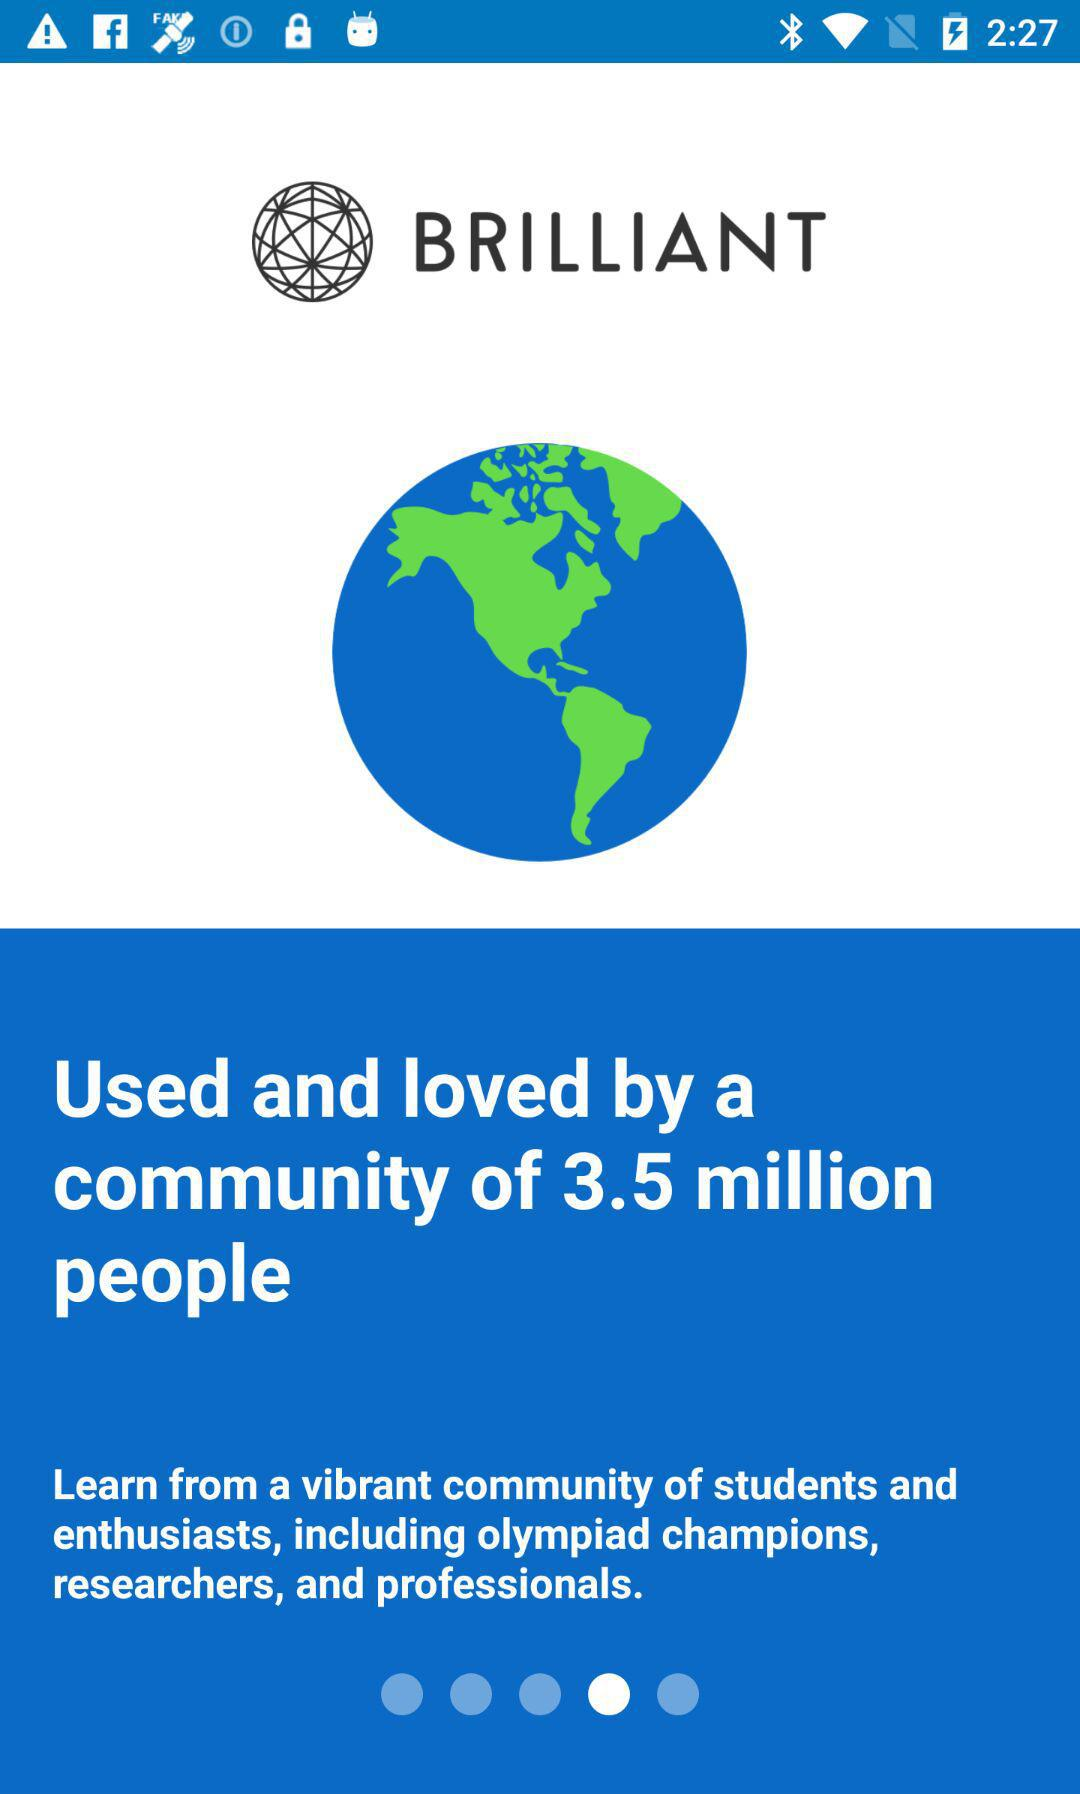Image: (331, 442, 749, 862), (251, 181, 375, 304)
PageIndicator: (380, 1671, 701, 1718)
Text: (54, 1056, 933, 1320), (53, 1466, 960, 1608), (415, 211, 828, 274)
UpperTaskBar: (1, 1, 1080, 64)
